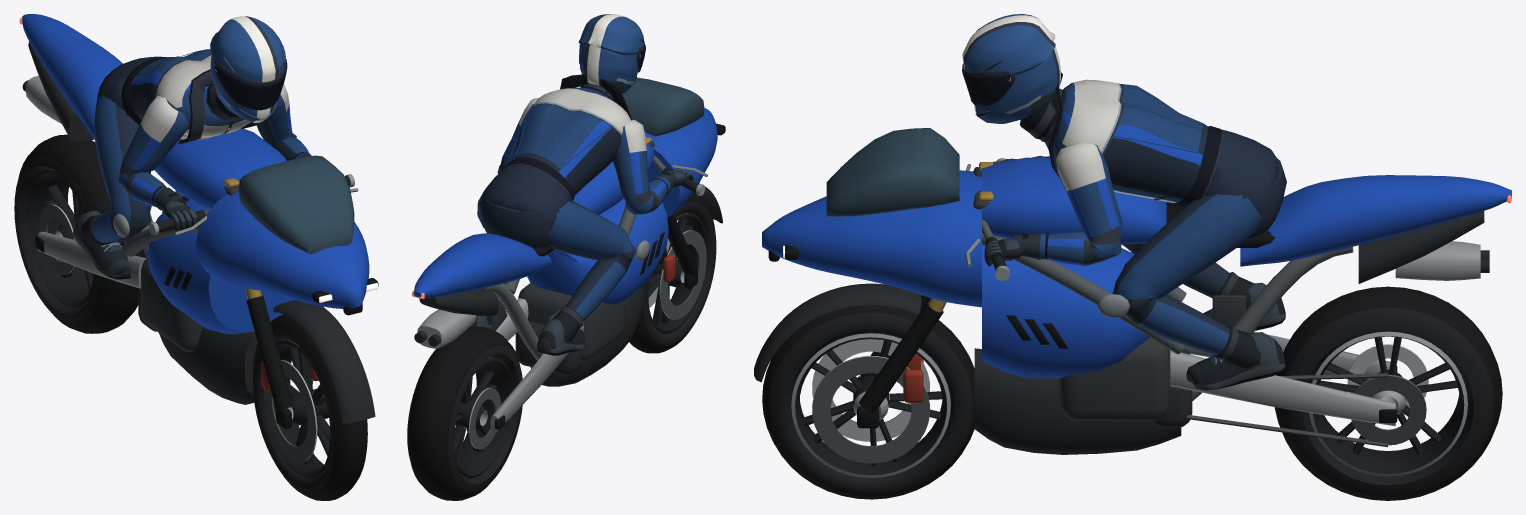
The model's file is racebike_real.glb.
The picture shows the model from 3 angles, left to right: view 1: azimuth 30°, elevation 25°; view 2: azimuth 150°, elevation 25°; view 3: azimuth 270°, elevation 25°; orthographic projection. The views are drawn at different scales.
Parts seen in each view (by area): view 1: body, wheelRL, wheelFL, steerFL, torso, legR, head; view 2: body, wheelRL, torso, legR, wheelFL, head, steerFL; view 3: body, wheelRL, wheelFL, torso, legL, steerFL, head, legR.
Boxes of the visible parts, x1=… form: body: x1=19, y1=14, x2=378, y2=404; wheelRL: x1=14, y1=134, x2=146, y2=333; wheelFL: x1=252, y1=314, x2=367, y2=500; steerFL: x1=148, y1=174, x2=375, y2=428; torso: x1=97, y1=49, x2=265, y2=143; legR: x1=72, y1=95, x2=151, y2=279; head: x1=210, y1=16, x2=287, y2=122; body: x1=412, y1=77, x2=725, y2=432; wheelRL: x1=407, y1=326, x2=522, y2=500; torso: x1=479, y1=74, x2=631, y2=227; legR: x1=536, y1=200, x2=649, y2=355; wheelFL: x1=629, y1=192, x2=716, y2=353; head: x1=578, y1=14, x2=645, y2=93; steerFL: x1=645, y1=137, x2=722, y2=288; body: x1=762, y1=128, x2=1511, y2=454; wheelRL: x1=1274, y1=286, x2=1502, y2=500; wheelFL: x1=762, y1=305, x2=974, y2=499; torso: x1=1019, y1=72, x2=1279, y2=212; legL: x1=1097, y1=194, x2=1285, y2=389; steerFL: x1=754, y1=158, x2=1009, y2=428; head: x1=962, y1=14, x2=1060, y2=123; legR: x1=1122, y1=202, x2=1285, y2=330.
Bounding box in the file's own units: 0.704 × 1.43 × 2.05.
